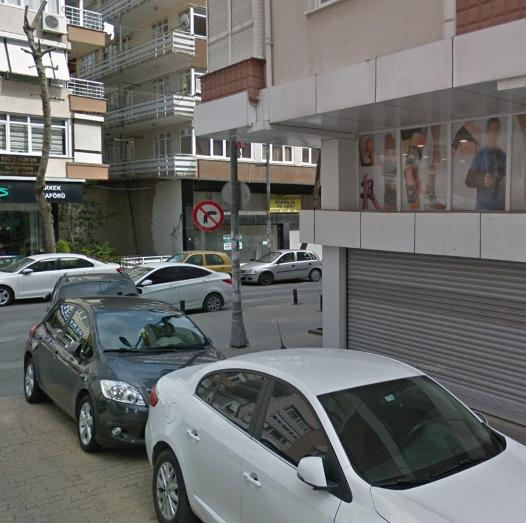rightturnsareforbidden: (194, 202, 224, 231)
